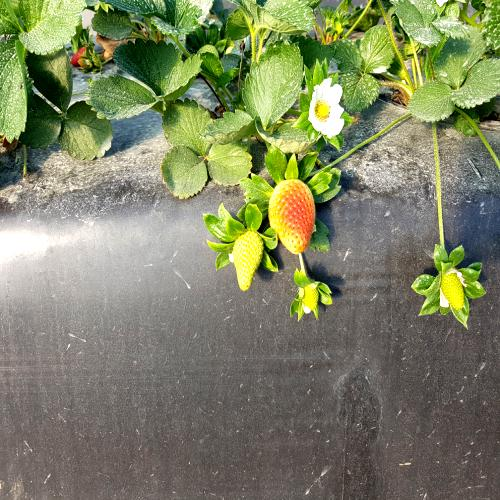partially-ripe: (266, 174, 320, 264)
